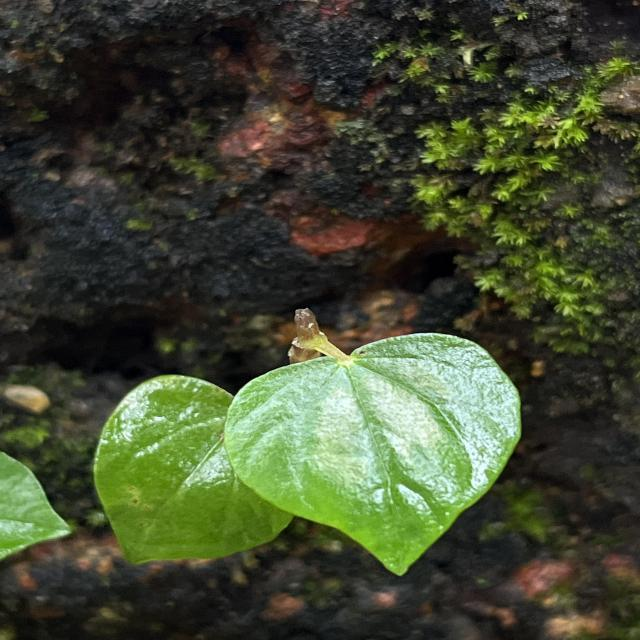Peperomia pellucida: (225, 330, 525, 580)
